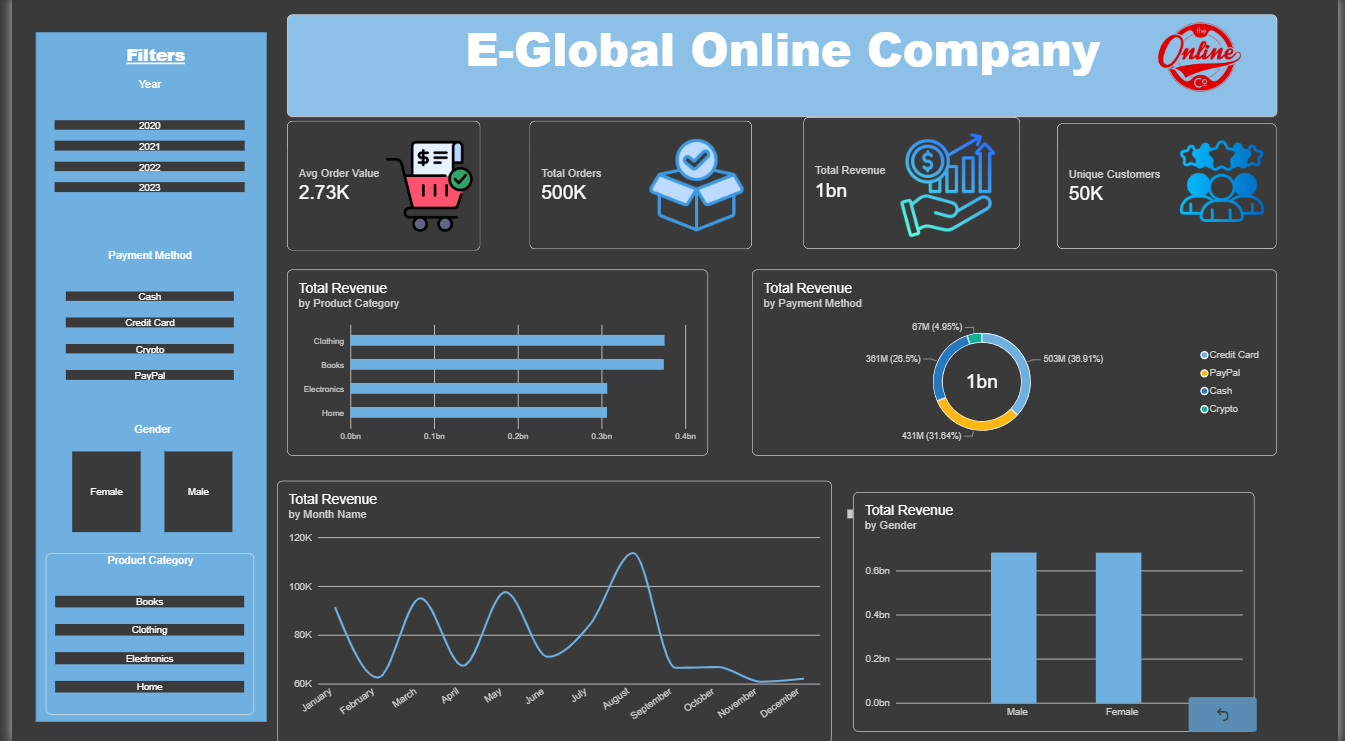

What the dashboard file says about the page in this screenshot:
{"tool":"powerbi","page":{"name":"Page 1","canvas":[1920,1080],"ordinal":0},"visuals":[{"type":"cardVisual","fields":{"Data":["Date Table.Total Revenue"]},"box":[1145.5,173.7,314.9,191.8],"z":0},{"type":"cardVisual","fields":{"Data":["Date Table.Unique Customers"]},"box":[1512.9,182.8,318.5,182.8],"z":1000},{"type":"cardVisual","fields":{"Data":["Date Table.Avg Order Value"]},"box":[398.1,179.2,280.5,188.2],"z":2000},{"type":"cardVisual","fields":{"Data":["Date Table.Total Orders"]},"box":[749.2,179.2,322.1,186.4],"z":3000},{"type":"lineChart","fields":{"Category":["Date Table.Month Name"],"Y":["Date Table.Total Revenue"]},"box":[383.6,700.3,803.5,380],"z":4000},{"type":"clusteredBarChart","fields":{"Category":["New Table.Product Category"],"Y":["Date Table.Total Revenue"]},"box":[398.1,394.5,609.9,269.6],"z":5000},{"type":"donutChart","fields":{"Category":["New Table.Payment Method"],"Y":["Date Table.Total Revenue"]},"box":[1071.3,394.5,760.1,269.6],"z":6000},{"type":"clusteredColumnChart","fields":{"Category":["New Table.Gender"],"Y":["Date Table.Total Revenue"]},"box":[1217.9,716.6,580.9,347.5],"z":7000},{"type":"textbox","box":[1025.7,741.4,191.4,12.9],"z":8000},{"type":"textbox","box":[1321,874,254,206],"z":9000},{"type":"shape","box":[34.4,50.7,334.8,998.9],"z":10000},{"type":"textbox","title":"E-Global Online Company","box":[398.1,25.3,1433.3,148.4],"z":11000},{"type":"image","box":[1639.6,34.4,159.3,105],"z":12000},{"type":"image","box":[530.2,208.1,148.4,132.1],"z":13000},{"type":"image","box":[910.3,193.6,161.1,150.2],"z":14000},{"type":"image","box":[1279.4,197.3,150.2,150.2],"z":15000},{"type":"image","box":[1686.6,191.8,130.3,150.2],"z":16000},{"type":"textbox","box":[57.9,67,300.4,52.5],"z":17000},{"type":"actionButton","box":[1702.9,1013.4,99.5,50.7],"z":18000},{"type":"advancedSlicerVisual","fields":{"Values":["New Table.Gender"]},"box":[53.5,617.5,298.5,166.7],"z":19000},{"type":"advancedSlicerVisual","fields":{"Values":["New Table.Payment Method"]},"box":[65.9,366.4,269.6,220.2],"z":20000},{"type":"advancedSlicerVisual","fields":{"Values":["Date Table.Year"]},"box":[49.6,117.7,301.5,194.1],"z":21000},{"type":"advancedSlicerVisual","fields":{"Values":["New Table.Product Category"]},"box":[49.6,805.3,301.5,233.3],"z":22000}]}

Visuals, with their boxes in screenshot pixels (x1, y1, x2, y2), scaled from the page's 1920x1080 canvas onto the 1345x741 screenshot:
cardVisual - Date Table.Total Revenue: 802:119:1023:251
cardVisual - Date Table.Unique Customers: 1060:125:1283:251
cardVisual - Date Table.Avg Order Value: 279:123:475:252
cardVisual - Date Table.Total Orders: 525:123:750:251
lineChart - Date Table.Month Name x Date Table.Total Revenue: 269:480:832:740
clusteredBarChart - New Table.Product Category x Date Table.Total Revenue: 279:271:706:456
donutChart - New Table.Payment Method x Date Table.Total Revenue: 750:271:1283:456
clusteredColumnChart - New Table.Gender x Date Table.Total Revenue: 853:492:1260:730
textbox: 719:509:853:518
textbox: 925:600:1103:740
shape: 24:35:259:720
"E-Global Online Company" textbox: 279:17:1283:119
image: 1149:24:1260:96
image: 371:143:475:233
image: 638:133:751:236
image: 896:135:1001:238
image: 1181:132:1273:235
textbox: 41:46:251:82
actionButton: 1193:695:1263:730
advancedSlicerVisual - New Table.Gender: 37:424:247:538
advancedSlicerVisual - New Table.Payment Method: 46:251:235:402
advancedSlicerVisual - Date Table.Year: 35:81:246:214
advancedSlicerVisual - New Table.Product Category: 35:553:246:713
